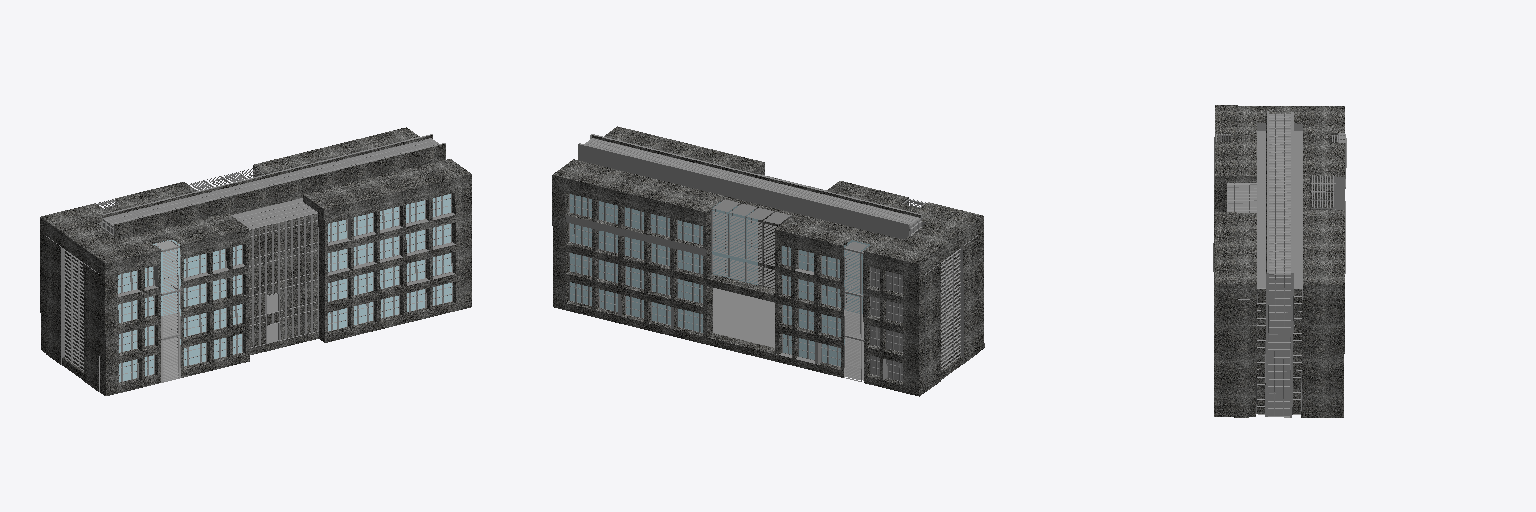
The picture shows the model from 3 angles: view 1: azimuth 30°, elevation 25°; view 2: azimuth 150°, elevation 25°; view 3: azimuth 270°, elevation 25°; orthographic projection.
Parts seen in each view (by area): view 1: Mesh13 Group1 BuildB_simplified_0 Model, Mesh24 Group1 BuildB_simplified_0 Model, Mesh12 Group1 BuildB_simplified_0 Model, Mesh27 Group1 BuildB_simplified_0 Model, Mesh26 Group1 BuildB_simplified_0 Model, Mesh1 Group1 BuildB_simplified_0 Model, Mesh20 Group1 BuildB_simplified_0 Model, Mesh114 Group1 BuildB_simplified_0 Model, Mesh29 Group1 BuildB_simplified_0 Model, Mesh22 Group1 BuildB_simplified_0 Model, Mesh116 Group1 BuildB_simplified_0 Model, Mesh25 Group1 BuildB_simplified_0 Model; view 2: Mesh13 Group1 BuildB_simplified_0 Model, Mesh21 Group1 BuildB_simplified_0 Model, Mesh25 Group1 BuildB_simplified_0 Model, Mesh18 Group1 BuildB_simplified_0 Model, Mesh1 Group1 BuildB_simplified_0 Model, Mesh9 Group1 BuildB_simplified_0 Model, Mesh16 Group1 BuildB_simplified_0 Model, Mesh28 Group1 BuildB_simplified_0 Model, Mesh114 Group1 BuildB_simplified_0 Model, Mesh24 Group1 BuildB_simplified_0 Model, Mesh15 Group1 BuildB_simplified_0 Model, Mesh14 Group1 BuildB_simplified_0 Model (+4 smaller); view 3: Mesh13 Group1 BuildB_simplified_0 Model, Mesh22 Group1 BuildB_simplified_0 Model, Mesh1 Group1 BuildB_simplified_0 Model, Mesh23 Group1 BuildB_simplified_0 Model, Mesh116 Group1 BuildB_simplified_0 Model.
Boxes of the visible parts, <box> form: Mesh13 Group1 BuildB_simplified_0 Model: <box>40,127,471,395</box>; Mesh24 Group1 BuildB_simplified_0 Model: <box>328,194,452,330</box>; Mesh12 Group1 BuildB_simplified_0 Model: <box>249,213,318,347</box>; Mesh27 Group1 BuildB_simplified_0 Model: <box>249,214,317,295</box>; Mesh26 Group1 BuildB_simplified_0 Model: <box>180,245,241,365</box>; Mesh1 Group1 BuildB_simplified_0 Model: <box>102,138,438,235</box>; Mesh20 Group1 BuildB_simplified_0 Model: <box>118,267,153,381</box>; Mesh114 Group1 BuildB_simplified_0 Model: <box>64,249,83,370</box>; Mesh29 Group1 BuildB_simplified_0 Model: <box>65,250,83,369</box>; Mesh22 Group1 BuildB_simplified_0 Model: <box>105,139,435,224</box>; Mesh116 Group1 BuildB_simplified_0 Model: <box>237,202,316,228</box>; Mesh25 Group1 BuildB_simplified_0 Model: <box>153,240,180,315</box>; Mesh13 Group1 BuildB_simplified_0 Model: <box>552,126,984,396</box>; Mesh21 Group1 BuildB_simplified_0 Model: <box>570,194,702,332</box>; Mesh25 Group1 BuildB_simplified_0 Model: <box>782,246,844,366</box>; Mesh18 Group1 BuildB_simplified_0 Model: <box>566,244,843,318</box>; Mesh1 Group1 BuildB_simplified_0 Model: <box>585,138,921,235</box>; Mesh9 Group1 BuildB_simplified_0 Model: <box>775,303,844,370</box>; Mesh16 Group1 BuildB_simplified_0 Model: <box>566,252,774,353</box>; Mesh28 Group1 BuildB_simplified_0 Model: <box>871,267,902,381</box>; Mesh114 Group1 BuildB_simplified_0 Model: <box>941,248,960,369</box>; Mesh24 Group1 BuildB_simplified_0 Model: <box>712,202,757,284</box>; Mesh15 Group1 BuildB_simplified_0 Model: <box>566,281,706,336</box>; Mesh14 Group1 BuildB_simplified_0 Model: <box>565,193,705,248</box>; Mesh13 Group1 BuildB_simplified_0 Model: <box>1214,105,1344,417</box>; Mesh22 Group1 BuildB_simplified_0 Model: <box>1268,115,1290,415</box>; Mesh1 Group1 BuildB_simplified_0 Model: <box>1268,114,1290,415</box>; Mesh23 Group1 BuildB_simplified_0 Model: <box>1257,289,1301,413</box>; Mesh116 Group1 BuildB_simplified_0 Model: <box>1227,185,1256,212</box>.
Bounding box in the file's own units: 89.87 × 33.9 × 28.23.
Materials: 3 (1 with a texture image).